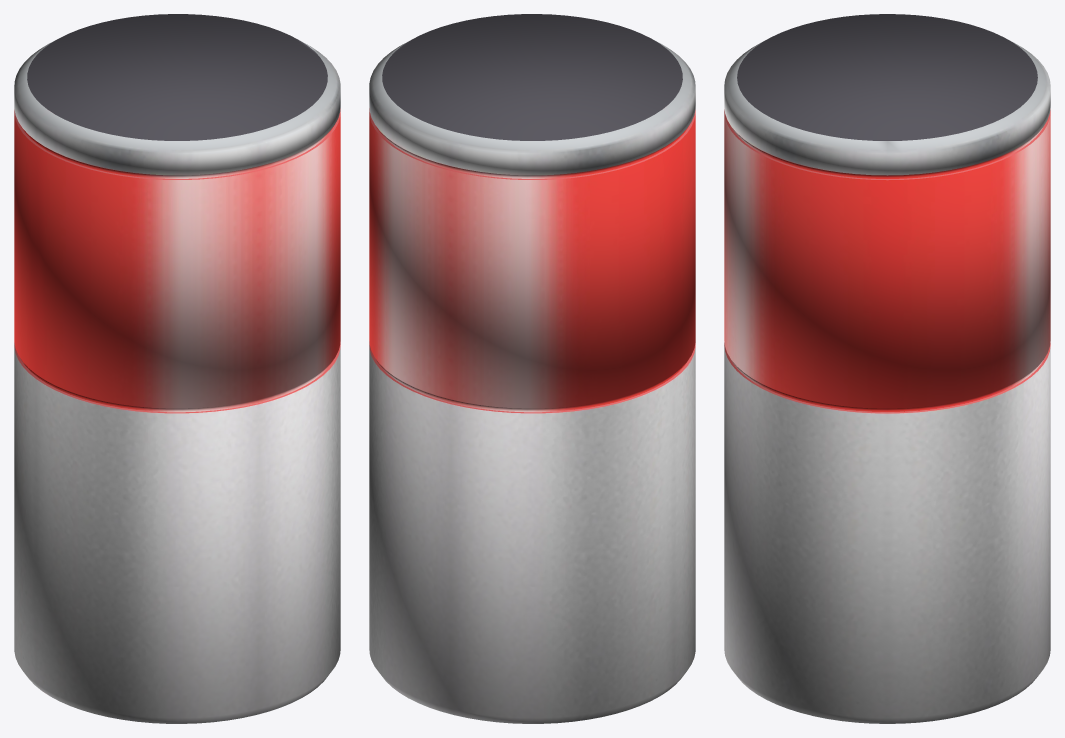
File: yellowtec-litt.glb
The picture shows the model from 3 angles, left to right: view 1: azimuth 30°, elevation 25°; view 2: azimuth 150°, elevation 25°; view 3: azimuth 270°, elevation 25°; orthographic projection.
Parts seen in each view (by area): view 1: yellowtec-litt-body; view 2: yellowtec-litt-body; view 3: yellowtec-litt-body.
Boxes of the visible parts, bbox=[...] form: yellowtec-litt-body: bbox=[14, 14, 340, 723]; yellowtec-litt-body: bbox=[369, 14, 695, 723]; yellowtec-litt-body: bbox=[724, 14, 1050, 723].
Bounding box in the file's own units: 0.051 × 0.1 × 0.051.
1 material, 1 textured.
